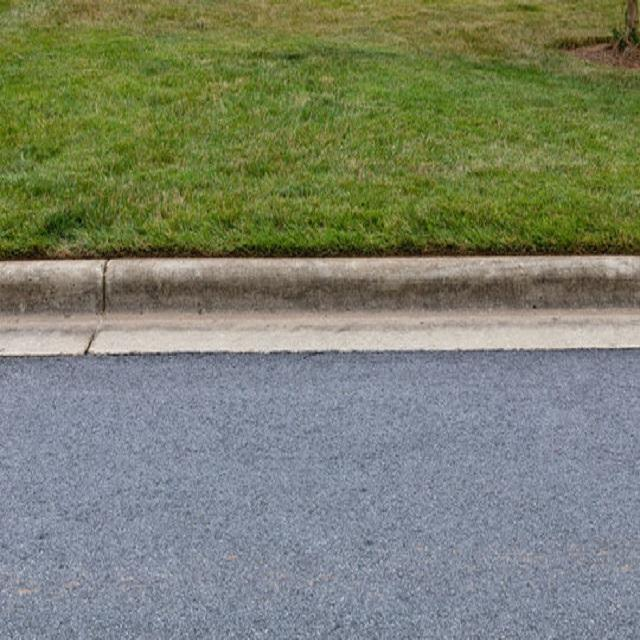curb: (1, 247, 640, 340)
